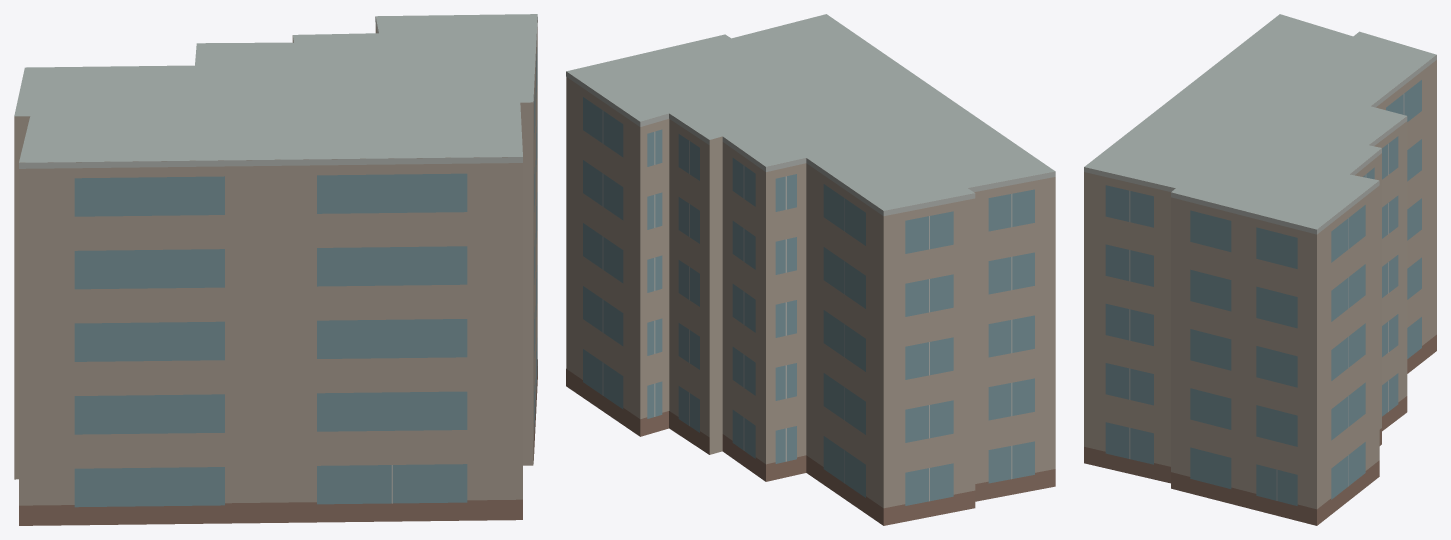
Rendered from survey-upis-32511970.glb.
The picture shows the model from 3 angles, left to right: view 1: azimuth 30°, elevation 25°; view 2: azimuth 150°, elevation 25°; view 3: azimuth 270°, elevation 25°; orthographic projection. The views are drawn at different scales.
Parts seen in each view (by area): view 1: survey-upis-32511970.tmp; view 2: survey-upis-32511970.tmp; view 3: survey-upis-32511970.tmp.
Boxes of the visible parts, x1,y1,x2,y2 form: survey-upis-32511970.tmp: (14,14,537,525); survey-upis-32511970.tmp: (566,14,1055,525); survey-upis-32511970.tmp: (1084,14,1436,525).
Bounding box in the file's own units: 22.65 × 14.5 × 15.66.
